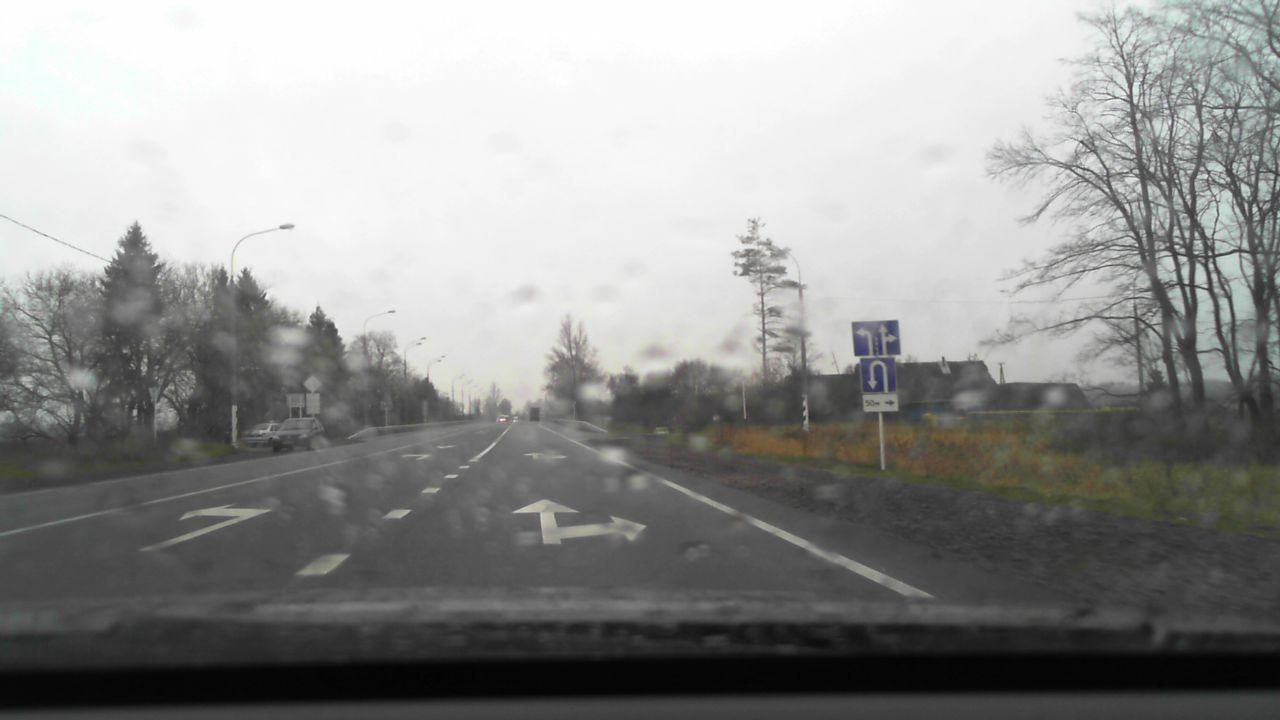5_15_1: (848, 320, 901, 357)
6_3_1: (861, 358, 899, 393)
8_1_3: (863, 393, 898, 411)
